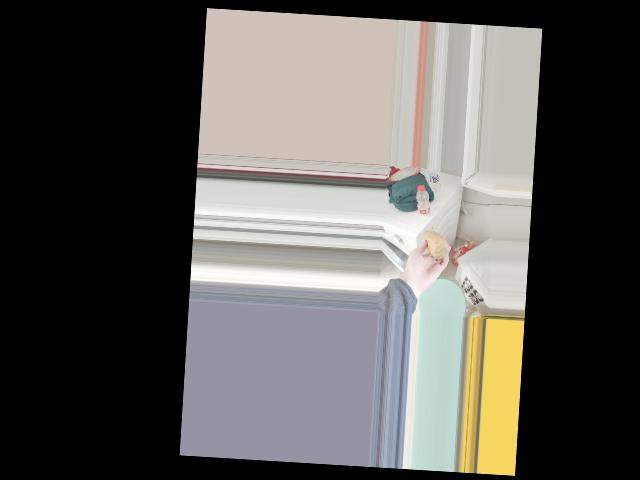sweet_potato: (417, 229, 446, 262)
